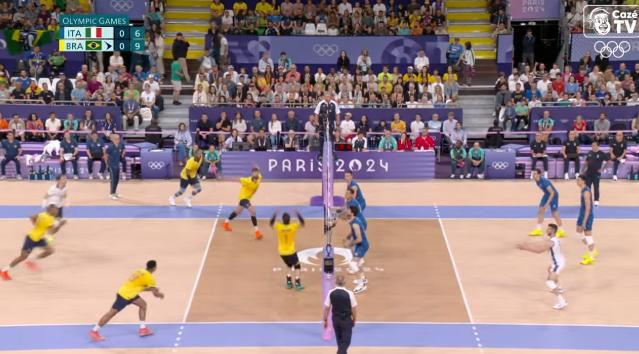Levantador: (276, 210, 304, 292), (533, 169, 561, 223)
Libero: (544, 225, 566, 309), (44, 173, 70, 208)
bola: (258, 78, 268, 88)
